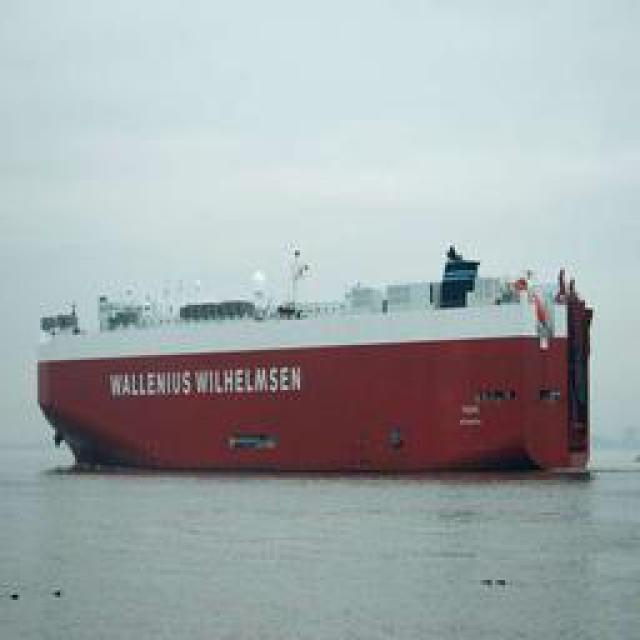Ship: (31, 235, 609, 483)
